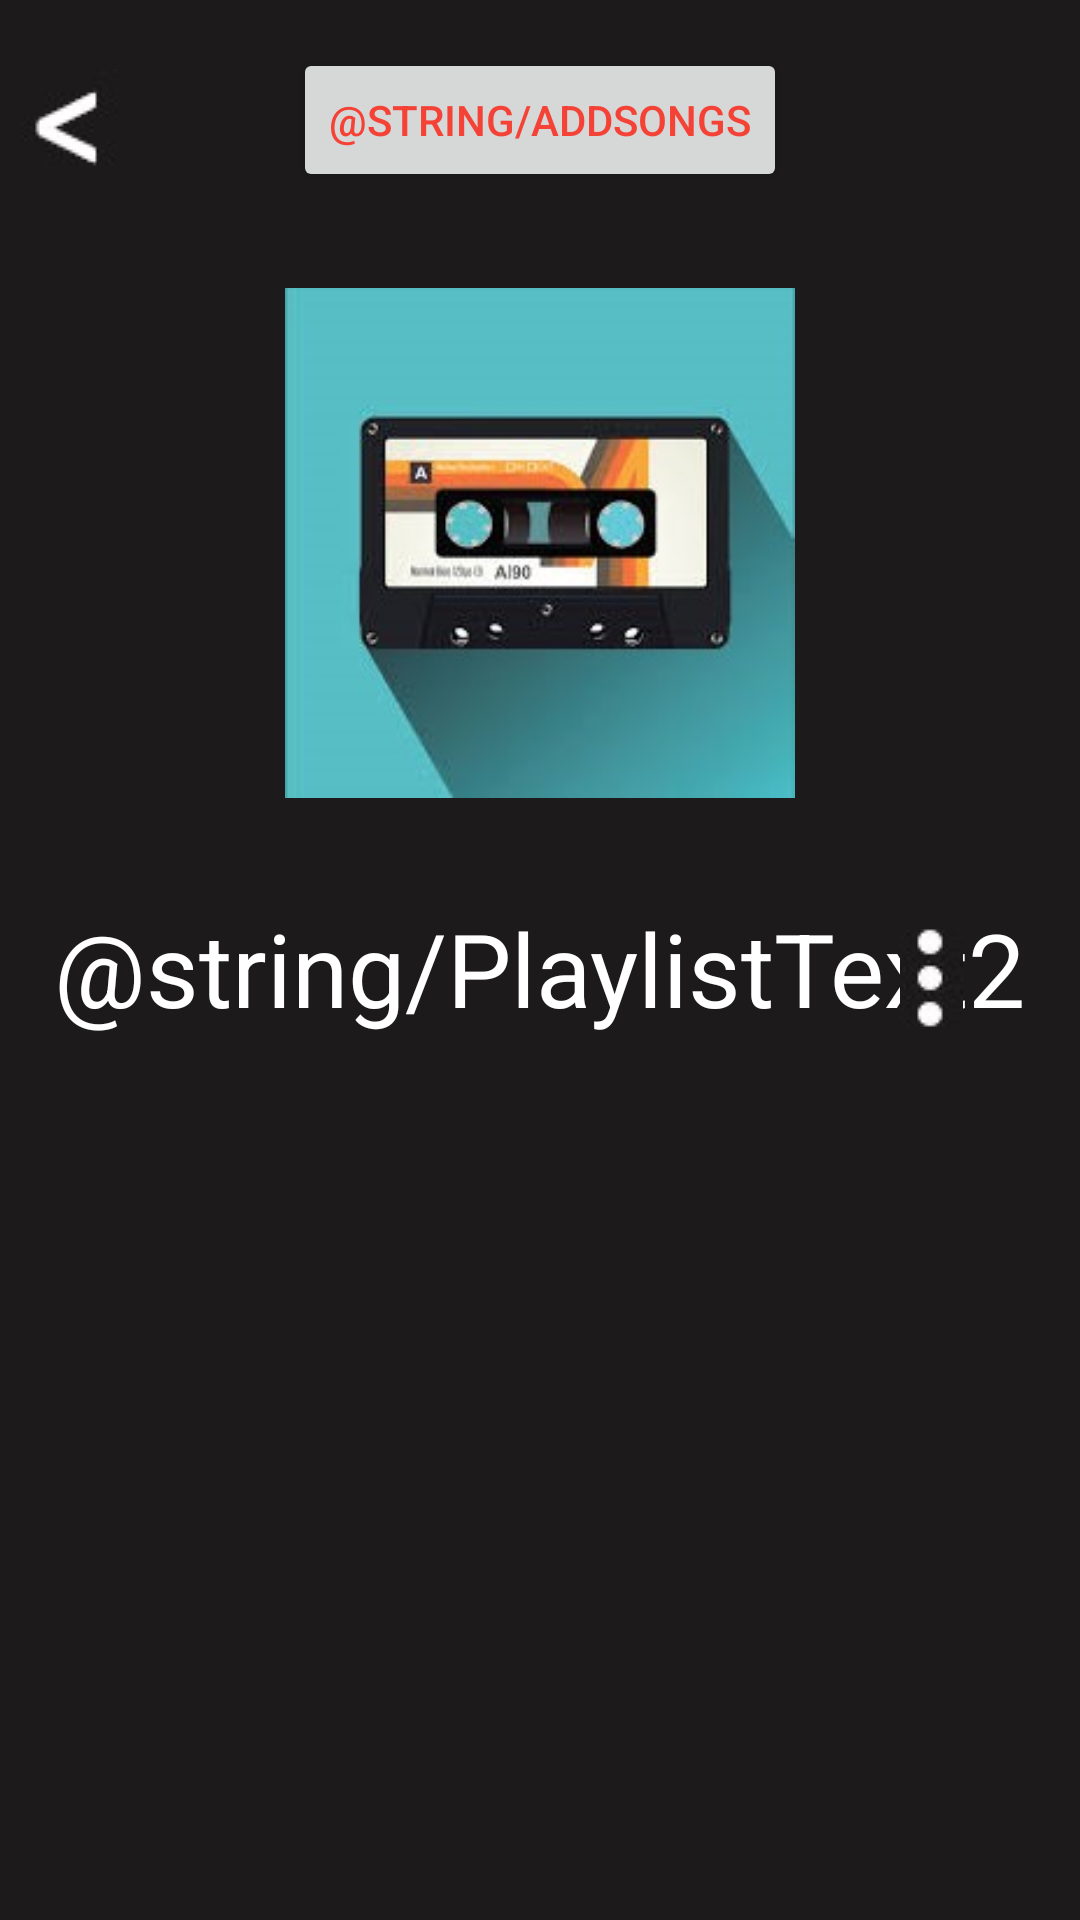

Icons on this 1080x1920 Android screen, each with its box as (x1, y1, x2, y2):
backbtn: (35, 92, 97, 165)
moreinfobtnv: (917, 929, 943, 1027)
